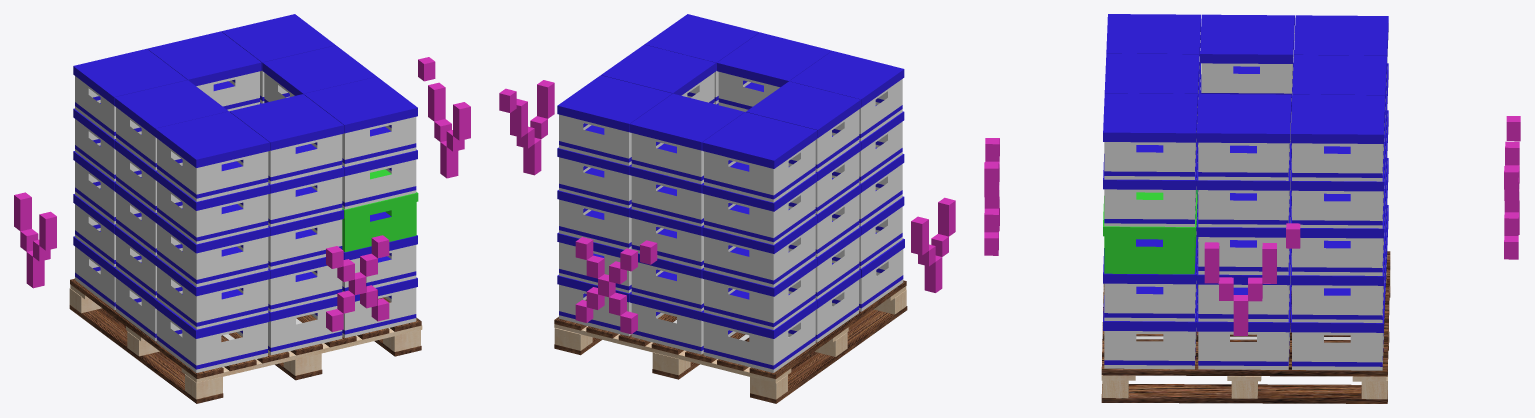
File: caja313.gltf
The picture shows the model from 3 angles, left to right: view 1: azimuth 30°, elevation 25°; view 2: azimuth 150°, elevation 25°; view 3: azimuth 270°, elevation 25°; orthographic projection. The views are drawn at different scales.
Parts seen in each view (by area): view 1: Cube.031_1, Cube.026_1, Cube.033_1, Cube.032_1, Cube.029_1, Cube.030_1, Cube.027_1, Cube.005_0, Cube.031_0, Cube.020_0, Cube.039_0, Cube.012_0 (+53 smaller); view 2: Cube.029_1, Cube.032_1, Cube.028_1, Cube.033_1, Cube.030_1, Cube.031_1, Cube.027_1, Cube.007_0, Cube.022_0, Cube.029_0, Cube.014_0, Cube.037_0 (+54 smaller); view 3: Cube.026_1, Cube.027_1, Cube.028_1, Cube.030_1, CajaVerde, Cube055, Cube.029_1, Cube.033_1, Cube.032_1, Cube.031_1, Cube.003_0, Cube.017_0 (+32 smaller).
Boxes of the visible parts, bbox=[...] form: Cube.031_1: bbox=[155, 111, 269, 198]; Cube.026_1: bbox=[303, 77, 417, 163]; Cube.033_1: bbox=[229, 94, 343, 181]; Cube.032_1: bbox=[147, 31, 261, 109]; Cube.029_1: bbox=[73, 48, 187, 135]; Cube.030_1: bbox=[114, 80, 228, 167]; Cube.027_1: bbox=[262, 45, 376, 102]; Cube.005_0: bbox=[156, 309, 267, 372]; Cube.031_0: bbox=[157, 138, 268, 201]; Cube.020_0: bbox=[157, 224, 268, 286]; Cube.039_0: bbox=[157, 181, 268, 244]; Cube.012_0: bbox=[157, 267, 268, 329]; Cube.029_1: bbox=[702, 112, 817, 199]; Cube.032_1: bbox=[629, 93, 744, 180]; Cube.028_1: bbox=[557, 75, 672, 162]; Cube.033_1: bbox=[717, 32, 831, 109]; Cube.030_1: bbox=[746, 81, 860, 168]; Cube.031_1: bbox=[789, 51, 904, 138]; Cube.027_1: bbox=[601, 44, 716, 103]; Cube.007_0: bbox=[703, 310, 815, 372]; Cube.022_0: bbox=[704, 225, 815, 287]; Cube.029_0: bbox=[704, 140, 815, 202]; Cube.014_0: bbox=[704, 268, 815, 329]; Cube.037_0: bbox=[704, 183, 815, 244]; Cube.026_1: bbox=[1103, 93, 1197, 176]; Cube.027_1: bbox=[1196, 94, 1291, 177]; Cube.028_1: bbox=[1290, 94, 1385, 177]; Cube.030_1: bbox=[1200, 14, 1294, 97]; CajaVerde: bbox=[1103, 189, 1197, 274]; Cube055: bbox=[1101, 384, 1387, 403]; Cube.029_1: bbox=[1294, 15, 1388, 98]; Cube.033_1: bbox=[1104, 53, 1199, 130]; Cube.032_1: bbox=[1292, 55, 1386, 130]; Cube.031_1: bbox=[1106, 14, 1200, 89]; Cube.003_0: bbox=[1292, 332, 1383, 370]; Cube.017_0: bbox=[1104, 328, 1196, 369].
Size of the model in its own units: 4.23 by 2.33 by 4.23.
Materials: 82 (2 with a texture image).
